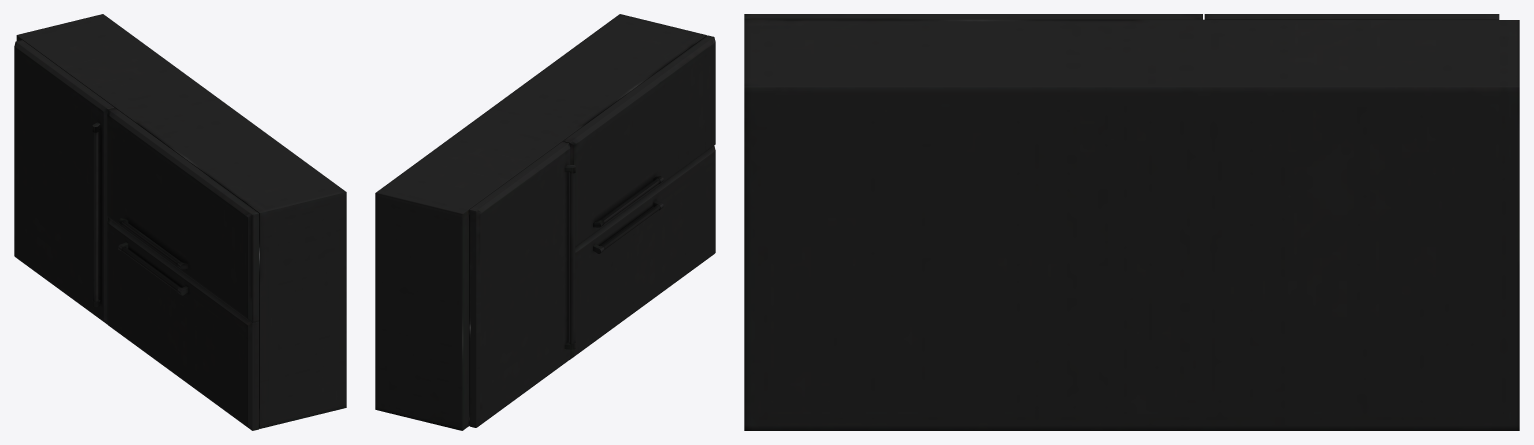
Rendered from fridge.obj.
3 renders of one model, left to right at view 1: azimuth 30°, elevation 25°; view 2: azimuth 150°, elevation 25°; view 3: azimuth 270°, elevation 25°, orthographic. The views are drawn at different scales.
Visible parts, largest first — view 1: fridge_draft_AI58_002_Metal_V002; view 2: fridge_draft_AI58_002_Metal_V002; view 3: fridge_draft_AI58_002_Metal_V002.
Part boxes in pixels (x1,y1,x2,y2): fridge_draft_AI58_002_Metal_V002: [14, 14, 346, 430]; fridge_draft_AI58_002_Metal_V002: [375, 14, 715, 430]; fridge_draft_AI58_002_Metal_V002: [744, 14, 1519, 430].
Size of the model in its own units: 44.19 by 86.9 by 177.
1 material, 1 textured.
